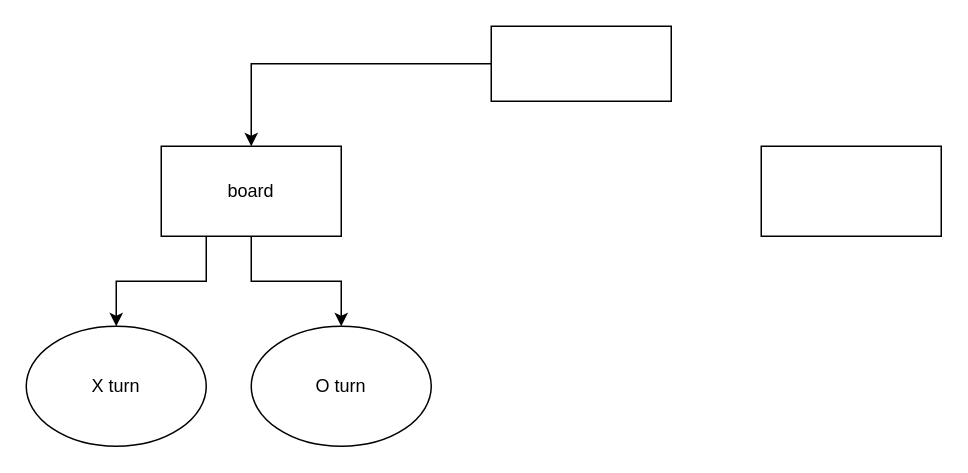
Some shapes in this 968 by 473 pixel diagram are drawn without their labels. The box of each missing label's shape, as (x1, y1, x2, y2) in pixels:
back on time: (760, 145, 941, 236)
tic-tac-toe game: (490, 25, 671, 101)
